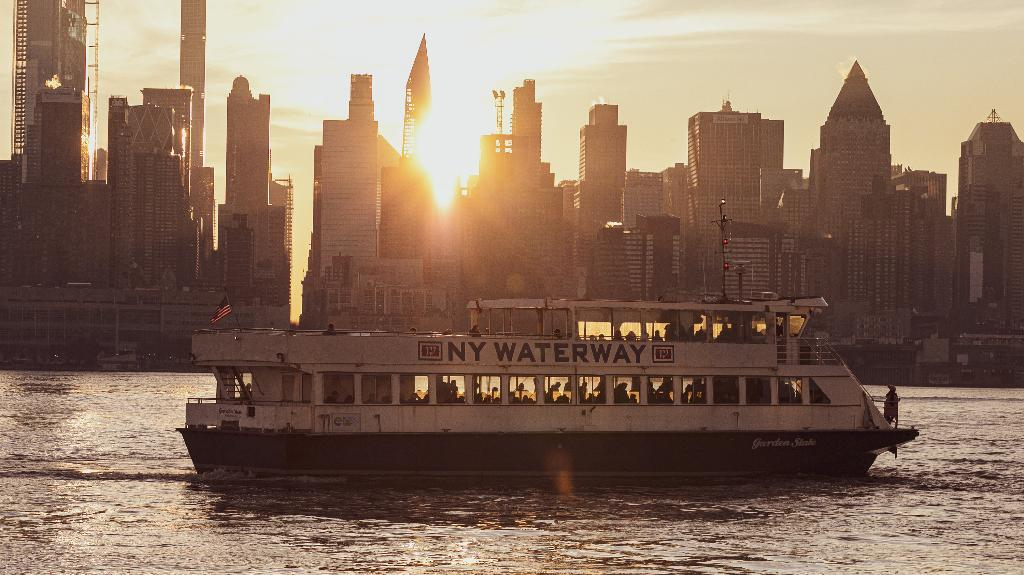PassengerShip: (147, 267, 931, 497)
